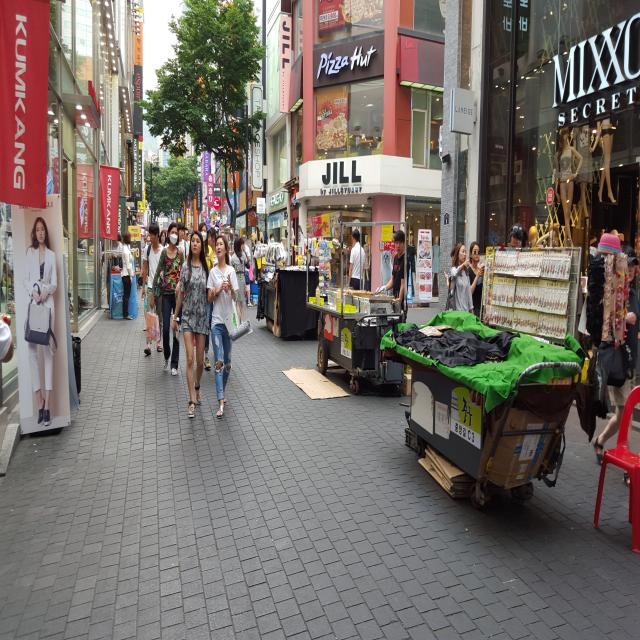body: (0, 216, 59, 432), (592, 245, 640, 485), (554, 113, 620, 247), (171, 230, 216, 419), (207, 235, 239, 420), (150, 222, 185, 376), (378, 230, 411, 332), (141, 222, 166, 355), (197, 222, 215, 369), (450, 242, 474, 315), (230, 237, 248, 327), (466, 241, 485, 322), (176, 222, 189, 332), (508, 221, 553, 249), (346, 229, 366, 290), (121, 230, 134, 321), (77, 237, 94, 306), (404, 232, 418, 306), (264, 212, 296, 244), (353, 126, 382, 156), (242, 235, 254, 307), (250, 224, 264, 284), (444, 244, 458, 297), (430, 235, 440, 301), (362, 234, 371, 294), (206, 227, 219, 267), (239, 236, 250, 276), (158, 230, 170, 248), (330, 218, 342, 236), (182, 227, 191, 248), (116, 233, 123, 250), (146, 234, 151, 245)
